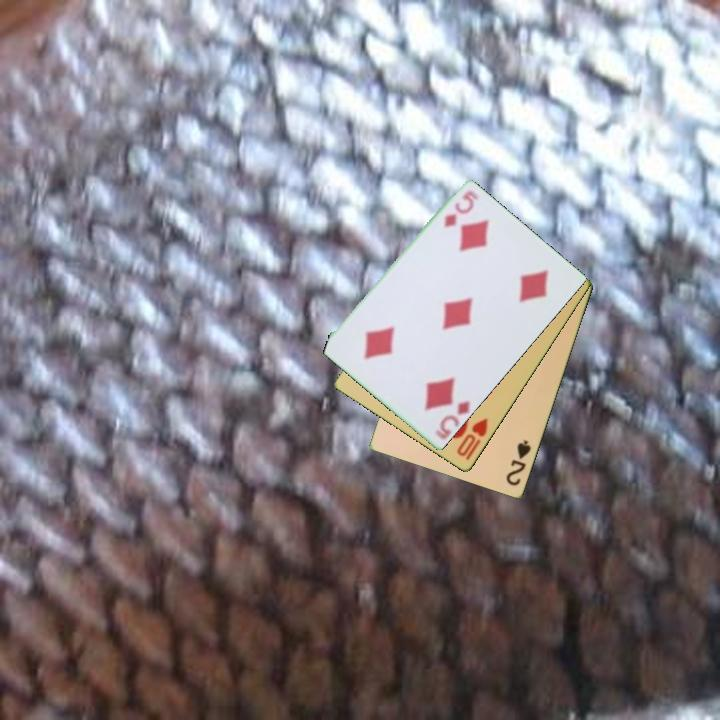10h: (453, 415, 491, 460)
2s: (503, 437, 534, 489)
5d: (432, 398, 473, 443), (441, 187, 477, 231)
